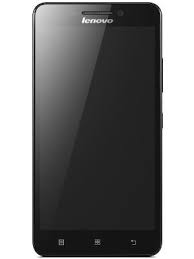lenovo: (28, 1, 166, 259)
